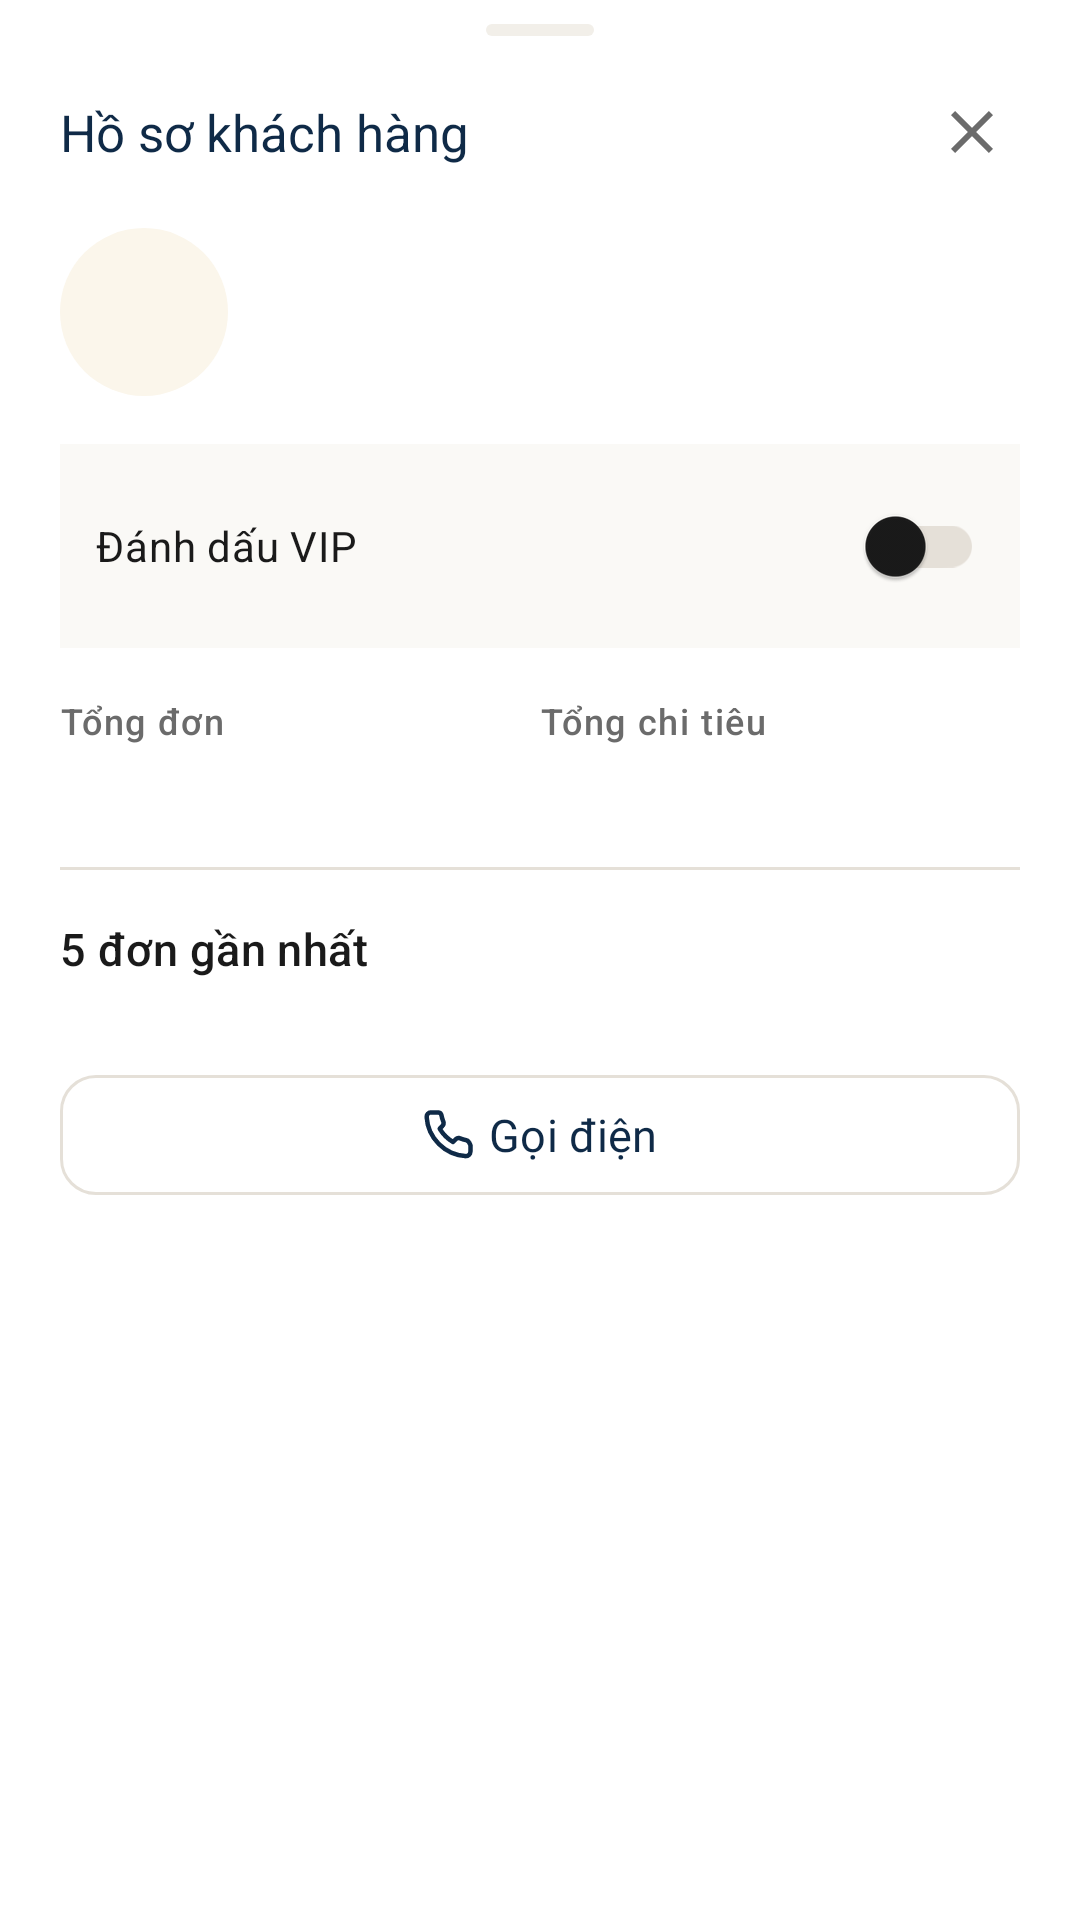

Named icons in this screenshot (1080*1920) and their bounding boxes, [left=x1, top=y1, right=x2, bottom=y2]:
Đóng: [left=951, top=111, right=993, bottom=153]
